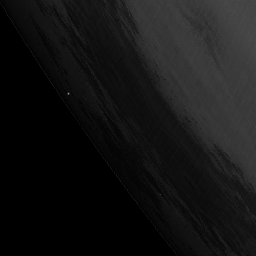Target: (66, 91, 71, 97)
